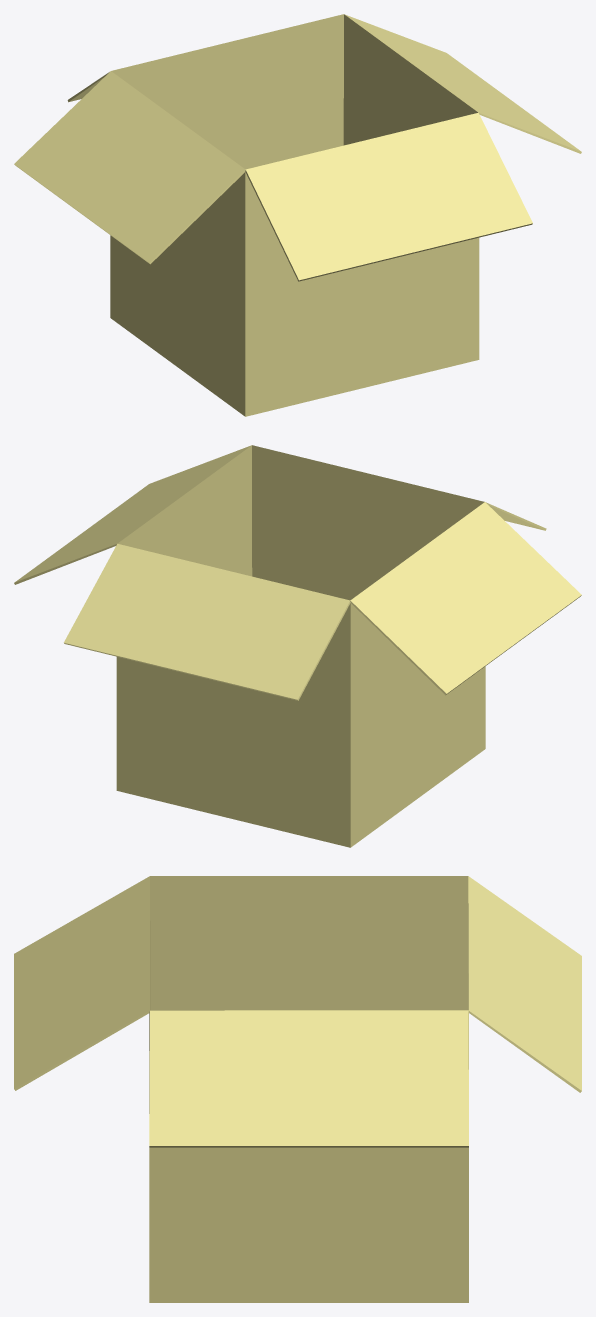
File: SM_CardboardBox_001.fbx
3 renders of one model, top to bottom at view 1: azimuth 30°, elevation 25°; view 2: azimuth 150°, elevation 25°; view 3: azimuth 270°, elevation 25°, orthographic. The views are drawn at different scales.
Visible parts, largest first — view 1: Cardboard_Box_001; view 2: Cardboard_Box_001; view 3: Cardboard_Box_001.
Boxes of the visible parts, x1,y1,x2,y2 form: Cardboard_Box_001: [14, 14, 581, 416]; Cardboard_Box_001: [14, 445, 581, 847]; Cardboard_Box_001: [14, 876, 581, 1302].
Size of the model in its own units: 77 by 42 by 74.
